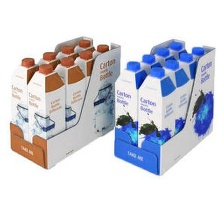carton: (138, 65, 175, 151), (26, 61, 65, 140), (6, 55, 39, 140), (114, 59, 148, 140), (161, 58, 192, 135), (54, 57, 84, 131)
